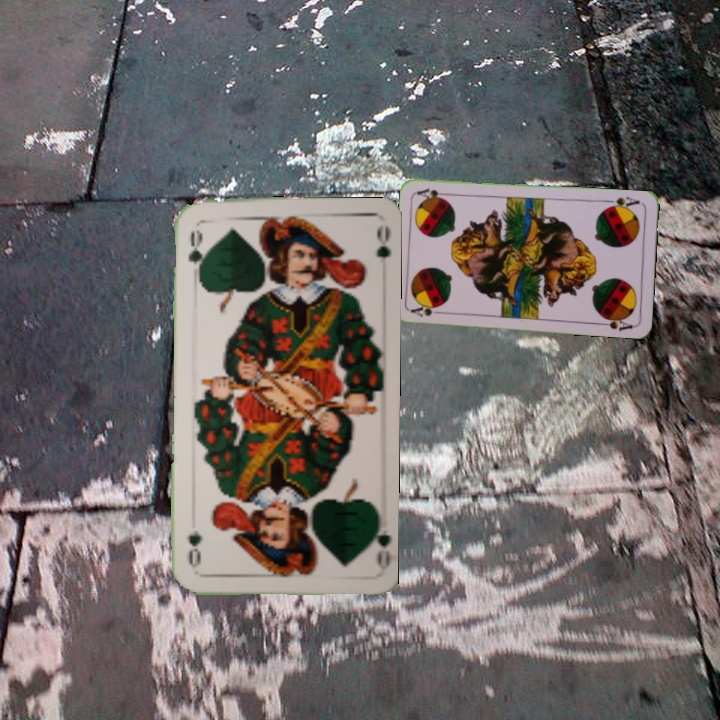GO: (363, 512, 390, 572), (184, 226, 207, 280)
SA: (602, 193, 642, 213), (407, 301, 448, 319)
